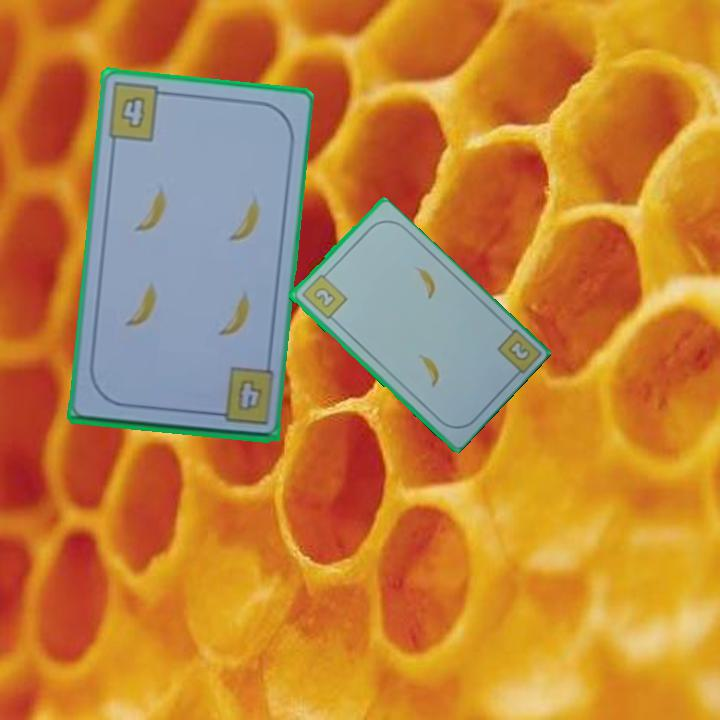2b: (297, 268, 349, 322), (504, 336, 533, 364)
4b: (103, 79, 172, 144), (233, 375, 265, 414)
